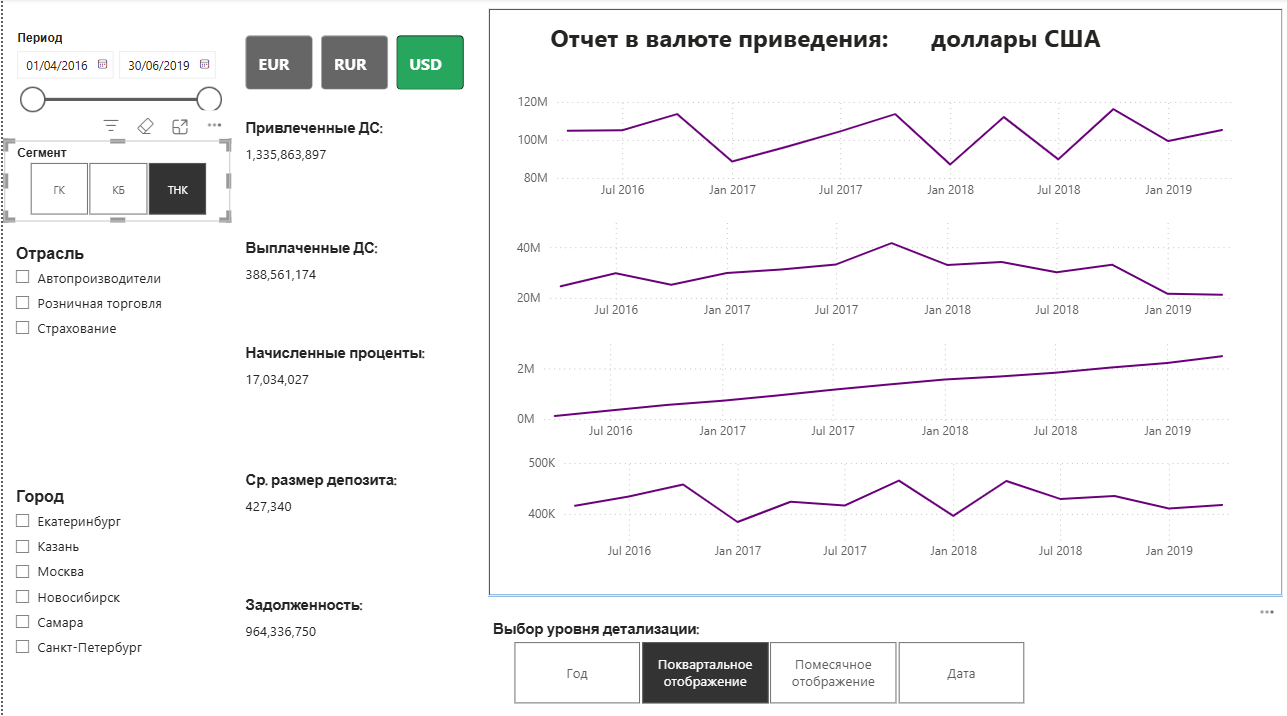

The page's visual inventory and layout, read from the dashboard file:
{"tool":"powerbi","page":{"name":"Отчет в валюте привед.","canvas":[1280,720],"ordinal":1},"visuals":[{"type":"advancedSlicerVisual","fields":{"Values":["Валюта отчета.Валюта"]},"box":[236.5,32,228.2,64],"z":1250},{"type":"card","fields":{"Values":["Показатели.Выбрана валюта приведения"]},"box":[908.5,18.1,200.3,44.5],"z":1750},{"type":"textbox","title":"Header1","box":[517.6,18.1,391,45.9],"z":2000},{"type":"slicer","fields":{"Values":["Клиенты-Ставки.Город"]},"box":[0,482.7,225.2,237.6],"z":4000},{"type":"slicer","fields":{"Values":["Клиенты-Ставки.Отрасль"]},"box":[0,240.1,225.2,231.4],"z":6000},{"type":"slicer","fields":{"Values":["Календарь.Дата"]},"box":[1.2,27.4,225.2,93.3],"z":7000},{"type":"lineChart","fields":{"Category":["Календарь.Поквартальное отображение"],"Y":["Показатели.ALL 1 Привлеченные ДС"]},"box":[506.4,89,736,119.7],"z":7500},{"type":"lineChart","fields":{"Category":["Календарь.Поквартальное отображение"],"Y":["Показатели.ALL 2 Выплаченные ДС"]},"box":[506.4,208.7,736,119.7],"z":8000},{"type":"lineChart","fields":{"Category":["Календарь.Поквартальное отображение"],"Y":["Показатели.ALL 3 Начисленные проценты"]},"box":[506.4,329.7,736,119.7],"z":9000},{"type":"lineChart","fields":{"Category":["Календарь.Поквартальное отображение"],"Y":["Показатели.ALL 5 Средний размер депозита"]},"box":[517.6,449.4,724.9,119.7],"z":10000},{"type":"multiRowCard","title":"Привлеченные ДС: ","fields":{"Values":["Показатели.ALL Привлеченные ДС"]},"box":[236.5,121,182.3,82.1],"z":19000},{"type":"multiRowCard","title":"Выплаченные ДС: ","fields":{"Values":["Показатели.2 ALL Выплаченные ДС"]},"box":[236.5,240.7,193.4,86.3],"z":20000},{"type":"multiRowCard","title":"Начисленные проценты: ","fields":{"Values":["Показатели.ALL 3 Начисленные проценты"]},"box":[236.6,344.8,193.3,112.5],"z":21000},{"type":"multiRowCard","title":"Ср.  размер депозита: ","fields":{"Values":["Показатели.ALL 5 Средний размер депозита"]},"box":[236.6,471.8,193.3,112.5],"z":22000},{"type":"multiRowCard","title":"Задолженность: ","fields":{"Values":["Показатели.ALL 4 Задолженность"]},"box":[236.6,595.9,193.3,112.5],"z":23000},{"type":"shape","box":[482.8,9.7,791.7,585.7],"z":23500},{"type":"slicer","fields":{"Values":["Клиенты-Ставки.Сегмент"]},"box":[1.2,141.8,225.2,80.9],"z":24000},{"type":"slicer","title":"Выбор уровня детализации:","fields":{"Values":["Date-Parameter.Date-Parameter"]},"box":[482.8,619.1,557.9,89],"z":24001}]}

Visuals, with their boxes on the page's 1280x720 design canvas (x1, y1, x2, y2). These are canvas units, not pixel positions in the 1287x716 screenshot, which may show the page scaled, cropped or inside an application window:
advancedSlicerVisual - Валюта отчета.Валюта: crop(236, 32, 465, 96)
card - Показатели.Выбрана валюта приведения: crop(908, 18, 1109, 63)
"Header1" textbox: crop(518, 18, 909, 64)
slicer - Клиенты-Ставки.Город: crop(0, 483, 225, 720)
slicer - Клиенты-Ставки.Отрасль: crop(0, 240, 225, 472)
slicer - Календарь.Дата: crop(1, 27, 226, 121)
lineChart - Календарь.Поквартальное отображение x Показатели.ALL 1 Привлеченные ДС: crop(506, 89, 1242, 209)
lineChart - Календарь.Поквартальное отображение x Показатели.ALL 2 Выплаченные ДС: crop(506, 209, 1242, 328)
lineChart - Календарь.Поквартальное отображение x Показатели.ALL 3 Начисленные проценты: crop(506, 330, 1242, 449)
lineChart - Календарь.Поквартальное отображение x Показатели.ALL 5 Средний размер депозита: crop(518, 449, 1242, 569)
"Привлеченные ДС: " multiRowCard: crop(236, 121, 419, 203)
"Выплаченные ДС: " multiRowCard: crop(236, 241, 430, 327)
"Начисленные проценты: " multiRowCard: crop(237, 345, 430, 457)
"Ср.  размер депозита: " multiRowCard: crop(237, 472, 430, 584)
"Задолженность: " multiRowCard: crop(237, 596, 430, 708)
shape: crop(483, 10, 1274, 595)
slicer - Клиенты-Ставки.Сегмент: crop(1, 142, 226, 223)
"Выбор уровня детализации:" slicer: crop(483, 619, 1041, 708)
